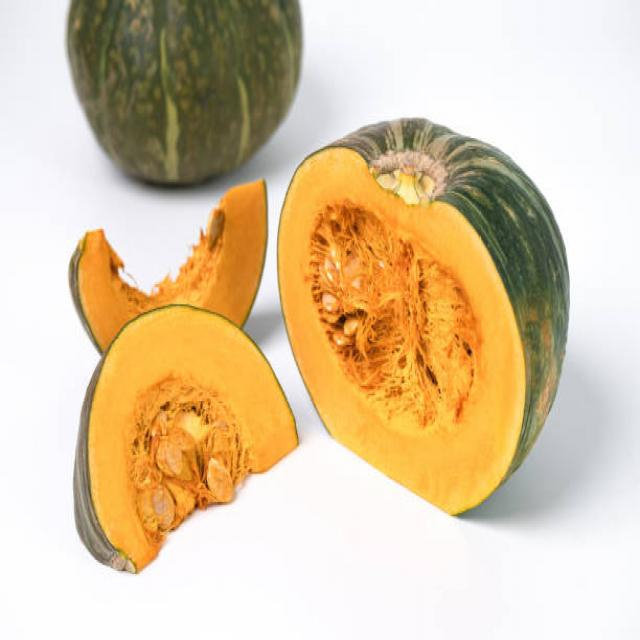pumpkin: (279, 109, 573, 519), (72, 303, 286, 580), (59, 179, 267, 307)
